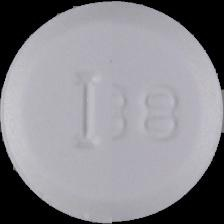68645-444: (0, 0, 224, 224)
